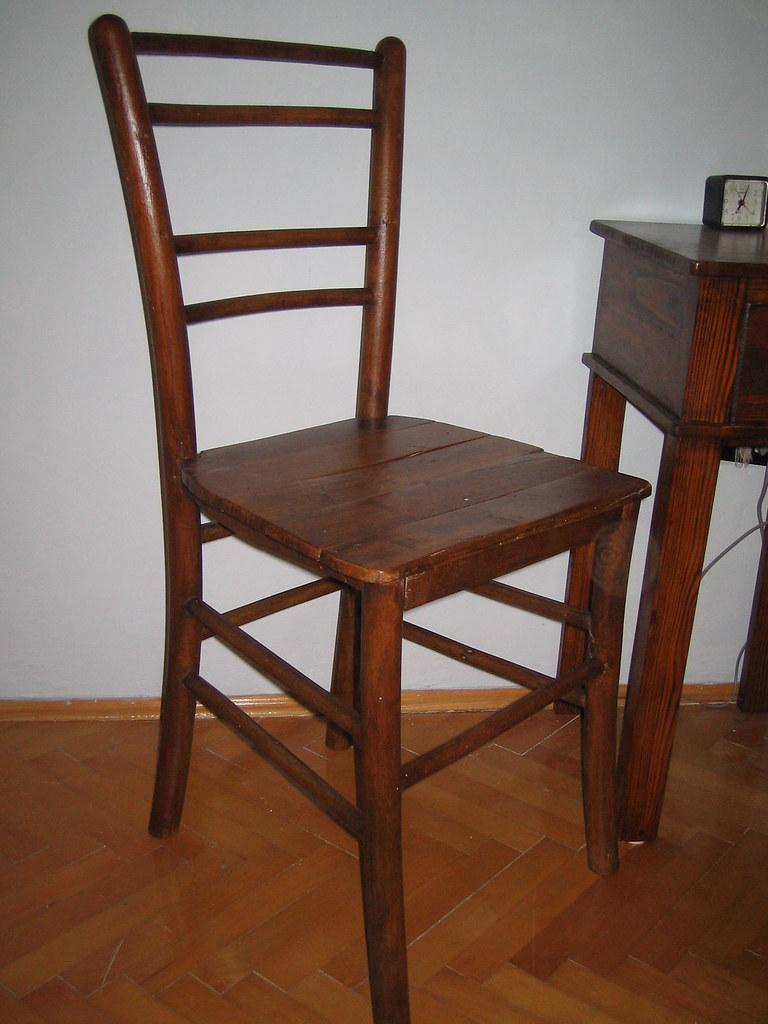chair: (87, 15, 653, 1023)
